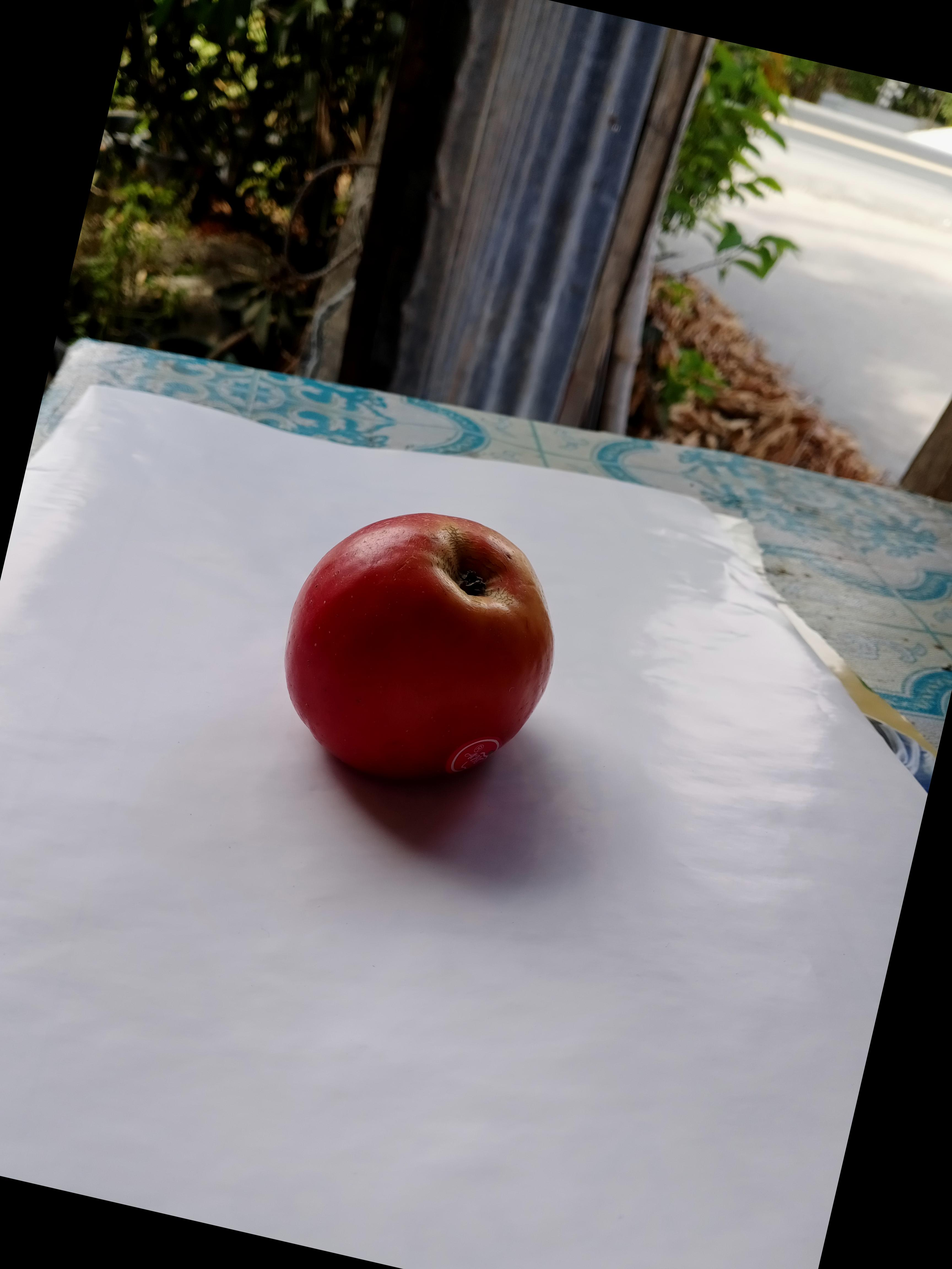Apple Ripe: (441, 361, 785, 710)
